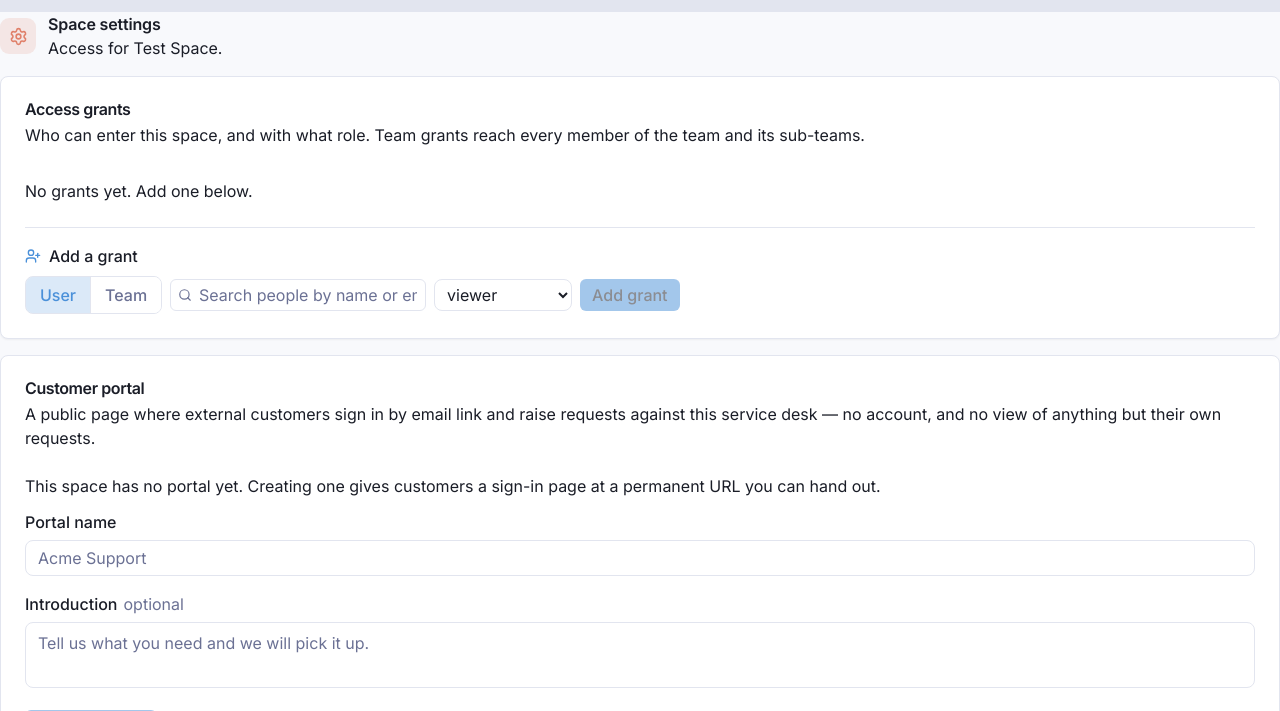
Test: SpaceSettingsPage grants section › clears a picked subject when the kind toggle changes
The image size is (1280, 711).
Pick a user while the toggle reads User…
In the dropdown with test id "grant-subject-picker-input": x=298, y=295 170,279 -> 426,311, type "Ada"
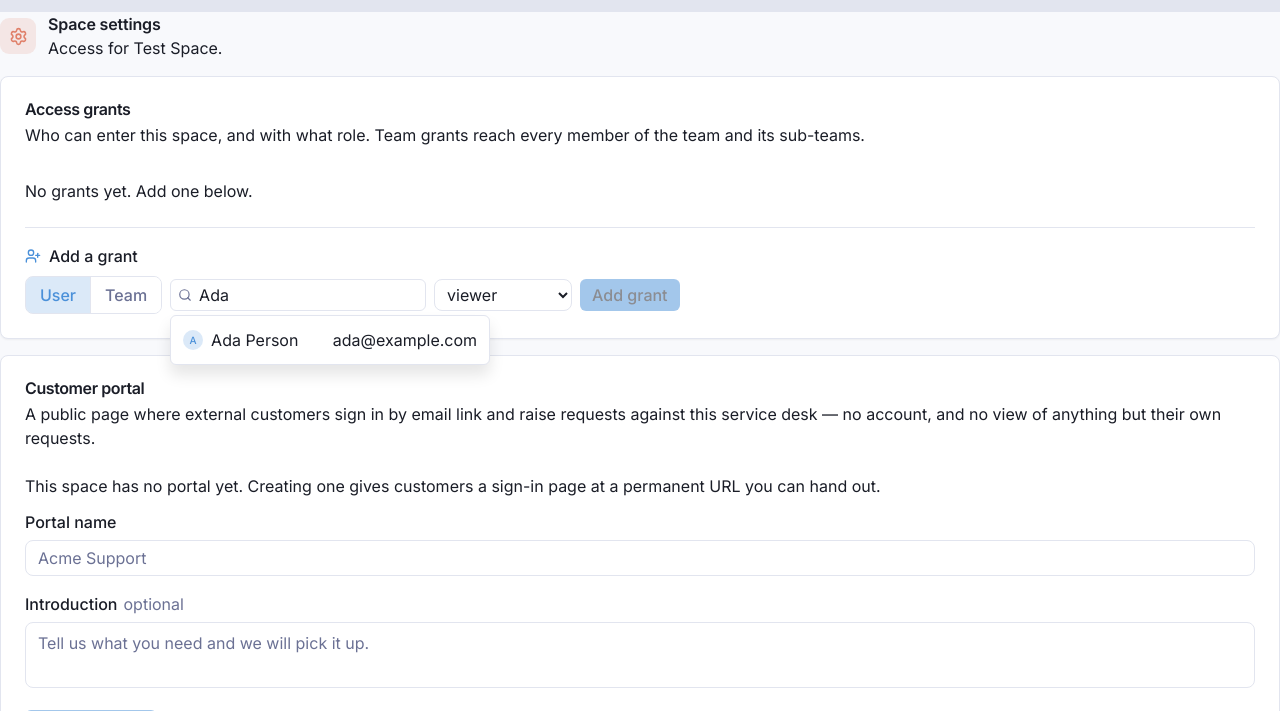
Click the button with test id "grant-subject-picker-option-user-ada@example.com": x=330, y=340 171,320 -> 489,360
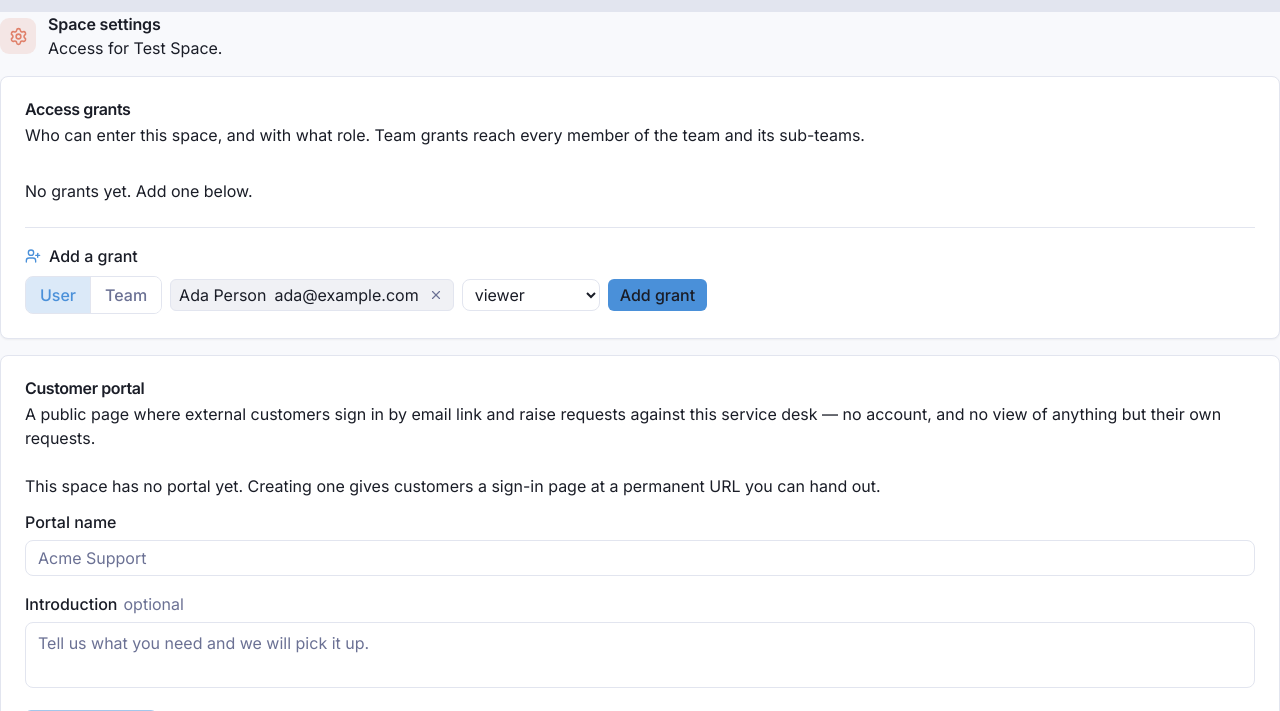
expect the element with test id "grant-subject-picker-selected" shows "Ada Person": met, box 179,285 -> 266,305
expect the button with test id "grant-add-button" is enabled: met, box 608,279 -> 707,311
…then flip to Team: the stale user selection must not survive.
Click the radio button labelled "Team": x=126, y=295 91,277 -> 161,313
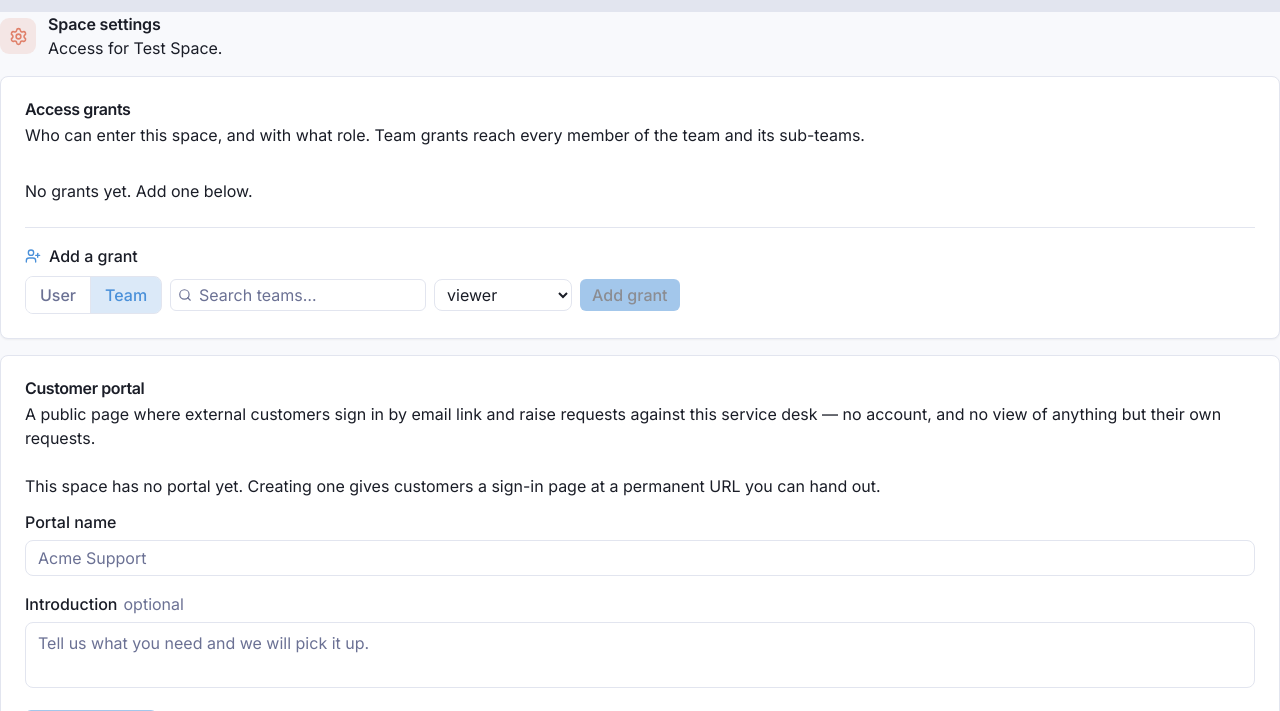
expect the element with test id "grant-subject-picker-selected" is gone: met
expect the button with test id "grant-add-button" is disabled: met, box 580,279 -> 680,311
